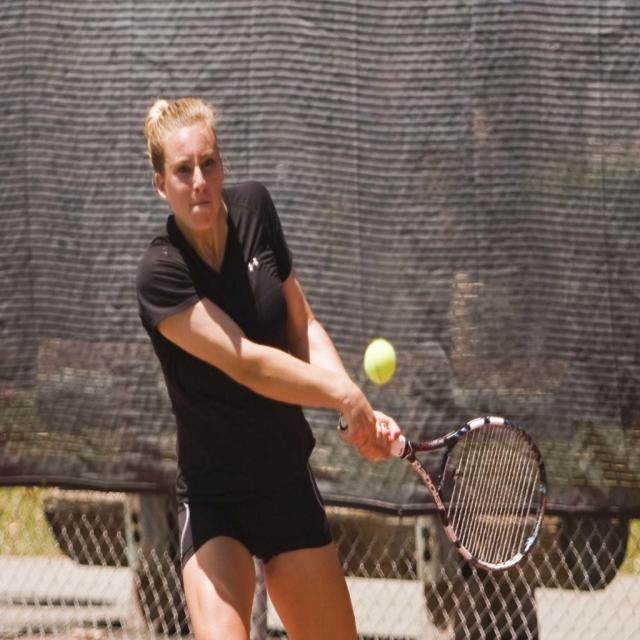Tennis ball: (365, 338, 397, 382)
